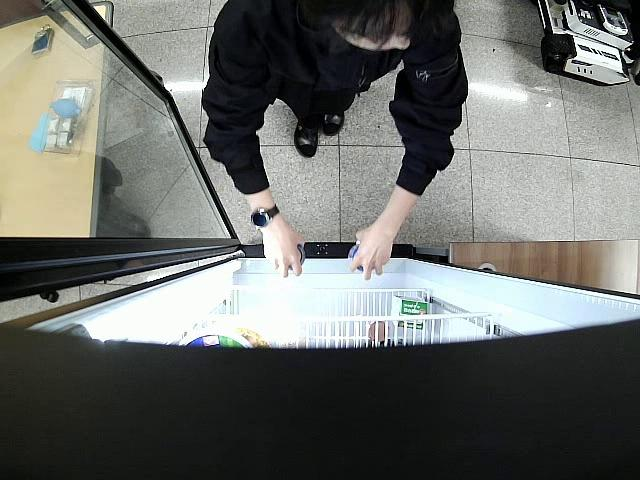00_hand: (351, 227, 391, 281), (263, 231, 307, 275)
13_pocariSweat: (284, 241, 306, 271), (349, 243, 367, 274)
